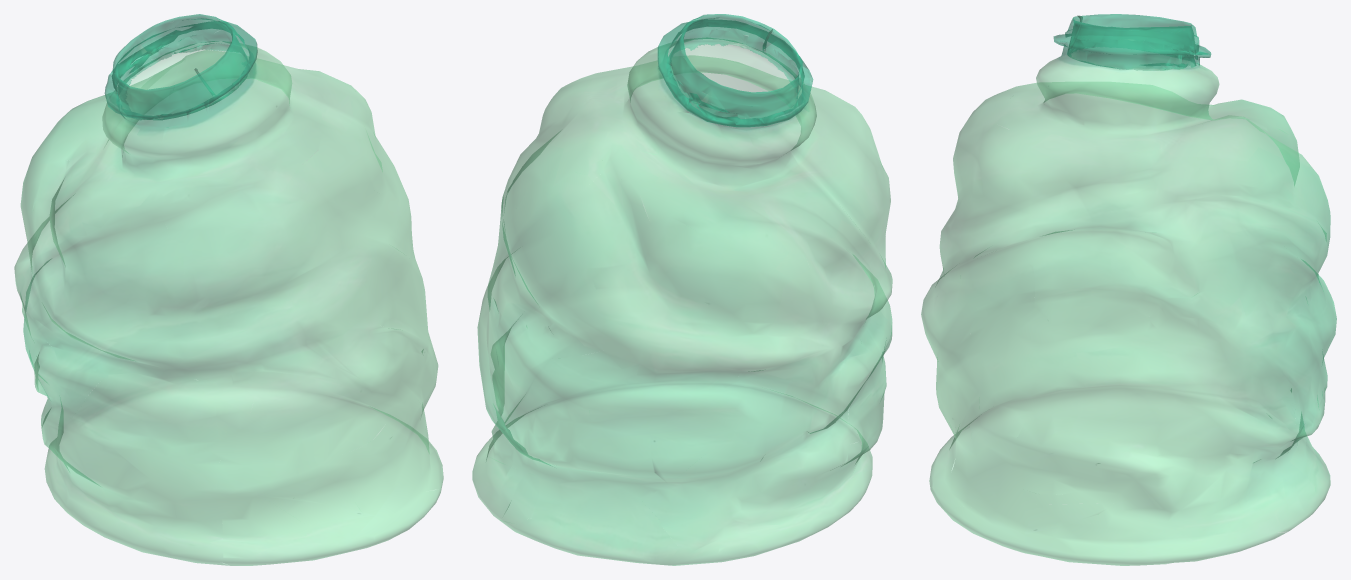
Rendered from 07_9_nj_et_gre_m_trs.glb.
The picture shows the model from 3 angles, left to right: view 1: azimuth 30°, elevation 25°; view 2: azimuth 150°, elevation 25°; view 3: azimuth 270°, elevation 25°; orthographic projection. The views are drawn at different scales.
Visible parts, largest first — view 1: yeşil.005; view 2: yeşil.005; view 3: yeşil.005.
Boxes of the visible parts, bbox=[...] form: yeşil.005: bbox=[14, 14, 443, 565]; yeşil.005: bbox=[472, 14, 892, 565]; yeşil.005: bbox=[921, 14, 1336, 565].
Bounding box in the file's own units: 0.2033 × 0.2499 × 0.2037.
Materials: 1 (1 with a texture image).
